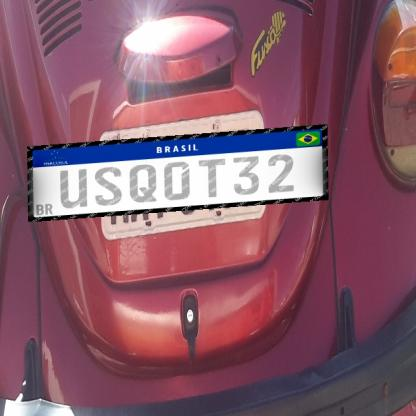PlacaM: (27, 124, 329, 222)
